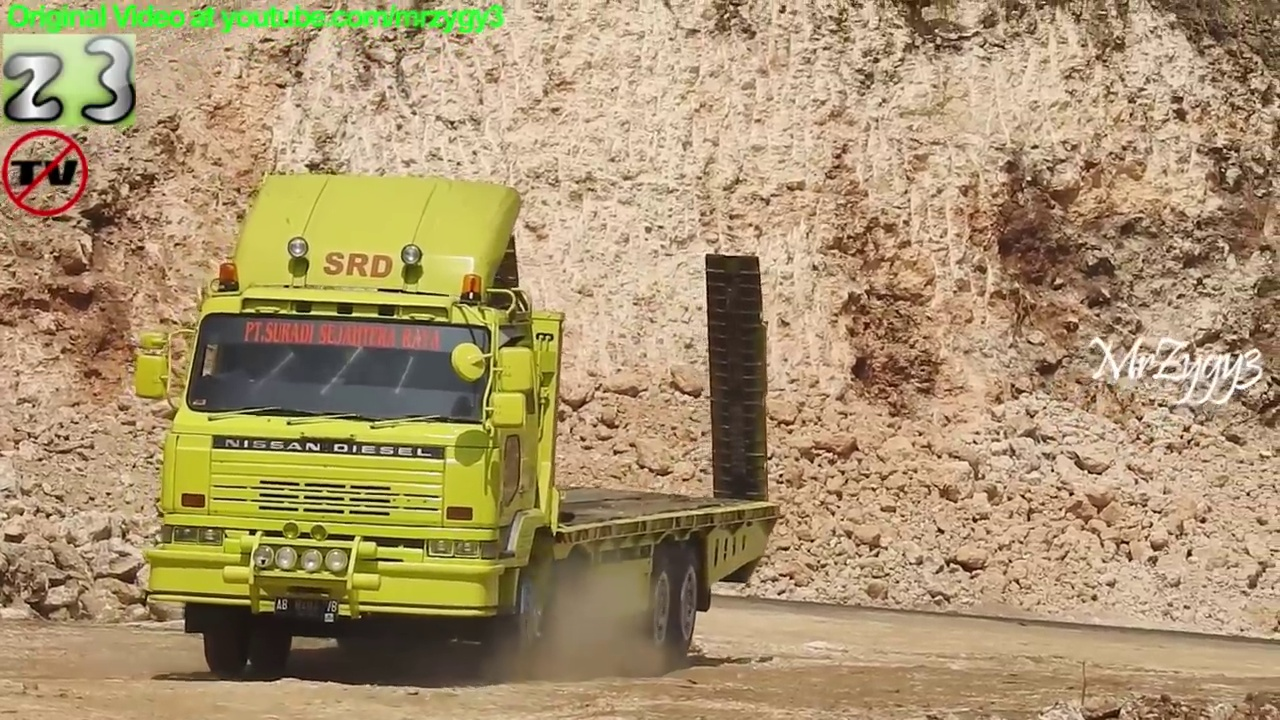truck: (131, 167, 788, 685)
